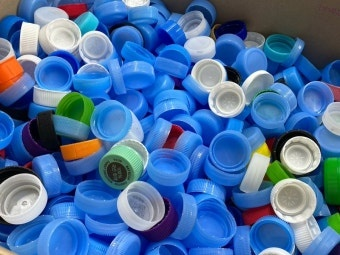plastic: (208, 81, 246, 117)
